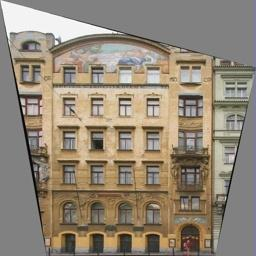building: (51, 24, 213, 238)
